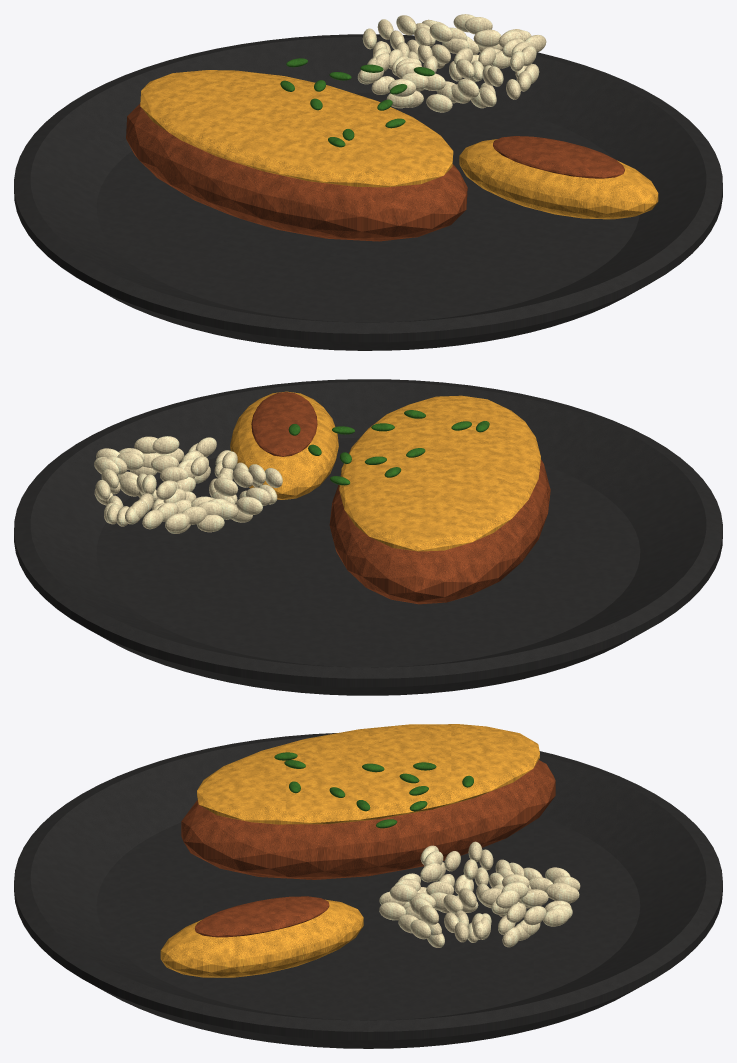
The model's file is pargo-caribe.glb.
3 renders of one model, top to bottom at view 1: azimuth 30°, elevation 25°; view 2: azimuth 150°, elevation 25°; view 3: azimuth 270°, elevation 25°, orthographic.
Visible parts, largest first — view 1: part0, part2, part1, part3, part4; view 2: part0, part2, part1, part3, part4; view 3: part0, part2, part1, part3, part4.
Part boxes in pixels (x1,y1,x2,y2): part0: (14, 34, 722, 350); part2: (140, 70, 658, 219); part1: (126, 103, 624, 241); part3: (357, 14, 546, 112); part4: (280, 58, 434, 147); part0: (14, 379, 722, 695); part2: (230, 391, 540, 551); part1: (251, 392, 550, 604); part3: (94, 436, 282, 533); part4: (288, 410, 489, 485); part0: (14, 733, 722, 1048); part2: (160, 724, 539, 977); part1: (181, 760, 555, 937); part3: (379, 841, 580, 947); part4: (274, 752, 473, 828).
Bounding box in the file's own units: 0.3 × 0.0665 × 0.3.
Materials: 5 (5 with a texture image).
